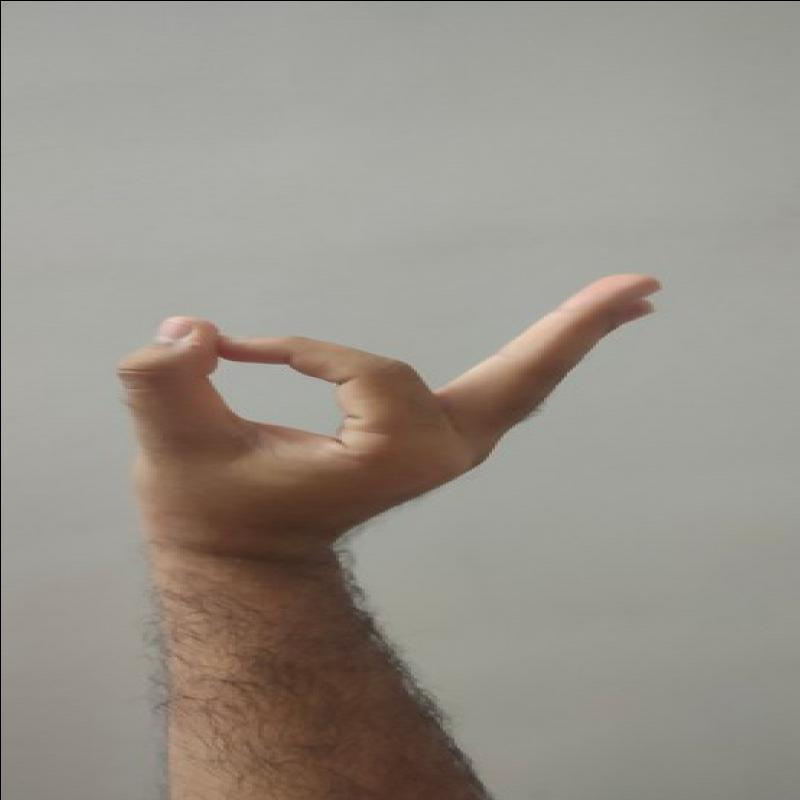Mudraakhyam: (97, 255, 681, 552)
